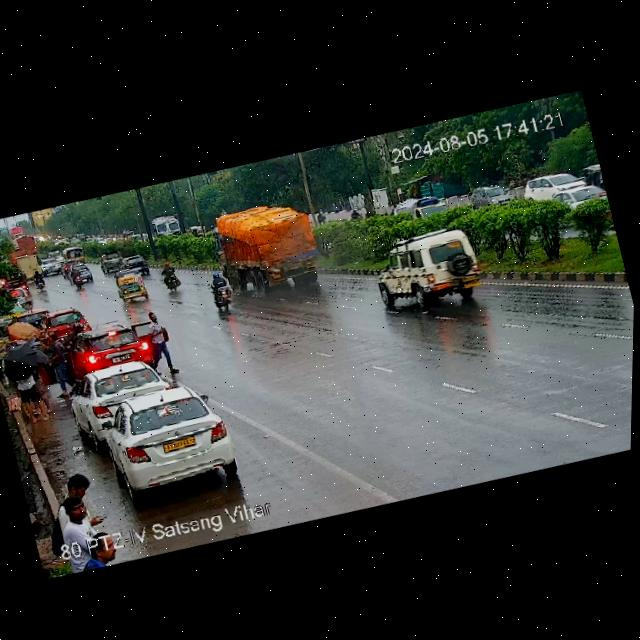car: (84, 371, 244, 506), (367, 223, 493, 320), (68, 351, 175, 435), (74, 314, 164, 377), (520, 160, 604, 214), (37, 304, 90, 345), (468, 177, 514, 214), (113, 266, 154, 306), (97, 248, 131, 274), (120, 250, 154, 275), (19, 299, 45, 325), (38, 255, 61, 276), (77, 261, 94, 282), (46, 248, 65, 265), (59, 261, 70, 278)
motorcycle: (207, 268, 236, 313), (157, 258, 182, 291), (31, 269, 48, 290), (69, 265, 84, 288), (312, 207, 328, 226), (349, 207, 360, 223)
person: (56, 495, 118, 575), (11, 358, 56, 421), (41, 332, 78, 400), (146, 308, 180, 375), (62, 471, 92, 502)
truck: (208, 194, 324, 304), (389, 184, 454, 226), (146, 210, 181, 242), (13, 247, 42, 279), (11, 231, 38, 256), (62, 243, 84, 264)
